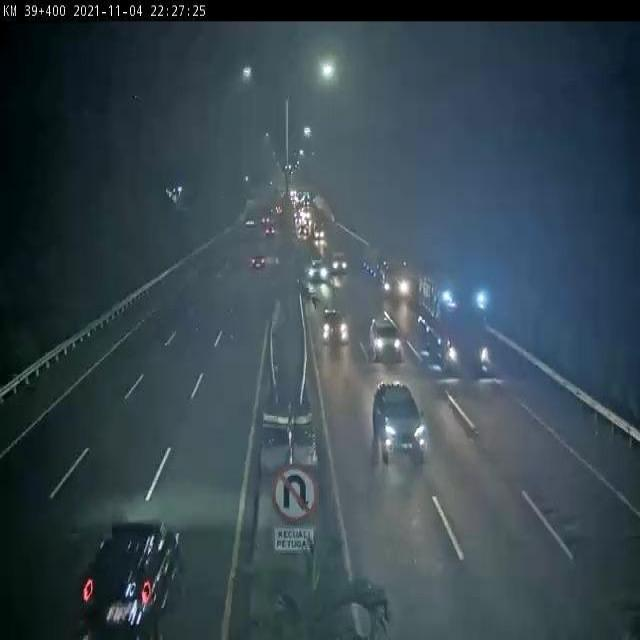car: (82, 521, 178, 640), (370, 382, 427, 462), (370, 316, 403, 357), (321, 307, 349, 340), (307, 257, 330, 284), (247, 253, 268, 276), (329, 252, 344, 273)
truck-xl-: (422, 275, 494, 376), (363, 250, 409, 302)
